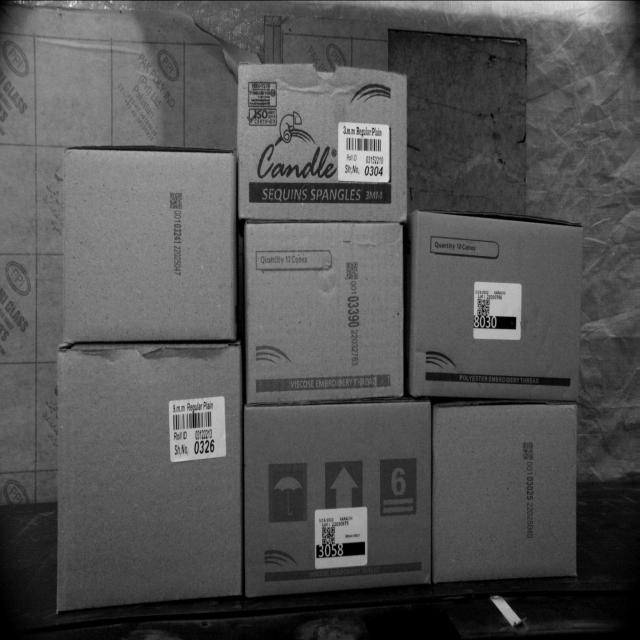cardboxes: (54, 345, 243, 612), (243, 401, 431, 597), (64, 147, 236, 341), (412, 209, 582, 401), (242, 220, 407, 398), (239, 62, 405, 221), (433, 406, 577, 578)
